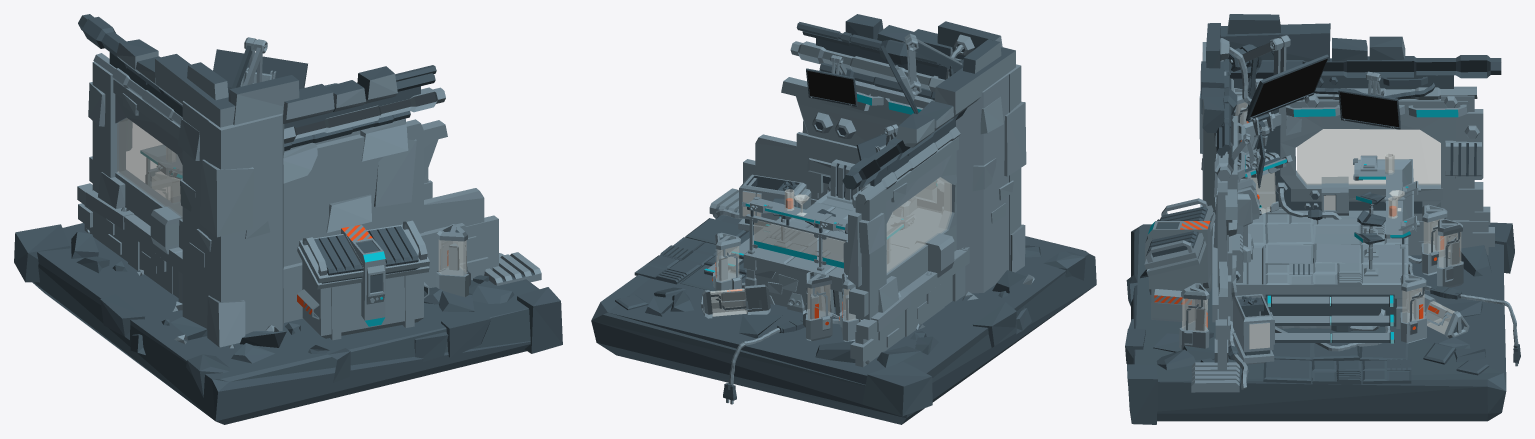
Rendered from Workstation.glb.
3 renders of one model, left to right at view 1: azimuth 30°, elevation 25°; view 2: azimuth 150°, elevation 25°; view 3: azimuth 270°, elevation 25°, orthographic. The views are drawn at different scales.
Visible parts, largest first — view 1: group1849163075, group1698529524, group1459223550, group87630066, group54319398, group1415885147, group1416618523, group388567560, group965656625, group2065830377, group667175294, group1204518475 (+44 smaller); view 2: group1849163075, group1698529524, group54319398, group282227351, group388567560, group1376866176, group883562538, group1050439806, group965656625, group1416618523, group628921701, group667175294 (+56 smaller); view 3: group1849163075, group1459223550, group54319398, group388567560, group2125687258, group1250345781, group1544801552, group1050439806, group628921701, group965656625, group1698529524, group164350169 (+72 smaller).
Boxes of the visible parts, left/top/right/bottom form: group1849163075: left=32, top=223, right=539, bottom=424; group1698529524: left=182, top=101, right=284, bottom=334; group1459223550: left=297, top=220, right=429, bottom=340; group87630066: left=284, top=119, right=423, bottom=266; group54319398: left=117, top=118, right=182, bottom=219; group1415885147: left=200, top=159, right=254, bottom=237; group1416618523: left=92, top=61, right=125, bottom=192; group388567560: left=115, top=94, right=182, bottom=249; group965656625: left=155, top=54, right=235, bottom=127; group2065830377: left=284, top=215, right=498, bottom=322; group667175294: left=283, top=87, right=445, bottom=143; group1204518475: left=228, top=75, right=299, bottom=125; group1849163075: left=591, top=215, right=1096, bottom=424; group1698529524: left=938, top=58, right=1021, bottom=293; group54319398: left=886, top=177, right=951, bottom=272; group282227351: left=796, top=80, right=936, bottom=203; group388567560: left=886, top=151, right=956, bottom=291; group1376866176: left=745, top=214, right=890, bottom=271; group883562538: left=862, top=362, right=932, bottom=416; group1050439806: left=803, top=271, right=861, bottom=341; group965656625: left=934, top=47, right=1015, bottom=119; group1416618523: left=855, top=187, right=886, bottom=319; group628921701: left=738, top=174, right=811, bottom=231; group667175294: left=790, top=41, right=944, bottom=91; group1849163075: left=1131, top=224, right=1506, bottom=421; group1459223550: left=1144, top=198, right=1215, bottom=322; group54319398: left=1297, top=129, right=1440, bottom=184; group388567560: left=1280, top=101, right=1468, bottom=213; group2125687258: left=1230, top=55, right=1501, bottom=78; group1250345781: left=1246, top=35, right=1328, bottom=120; group1544801552: left=1353, top=155, right=1420, bottom=244; group1050439806: left=1421, top=204, right=1463, bottom=287; group628921701: left=1232, top=294, right=1274, bottom=364; group965656625: left=1221, top=23, right=1330, bottom=61; group1698529524: left=1202, top=42, right=1290, bottom=222; group164350169: left=1338, top=71, right=1400, bottom=129.
Size of the model in its own units: 5.97 by 4.96 by 6.
